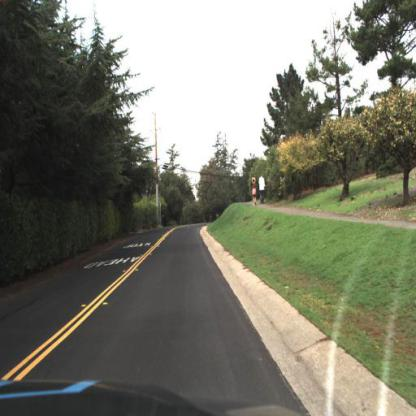pedestrian: (248, 173, 259, 205), (259, 172, 266, 205), (253, 176, 258, 205)
